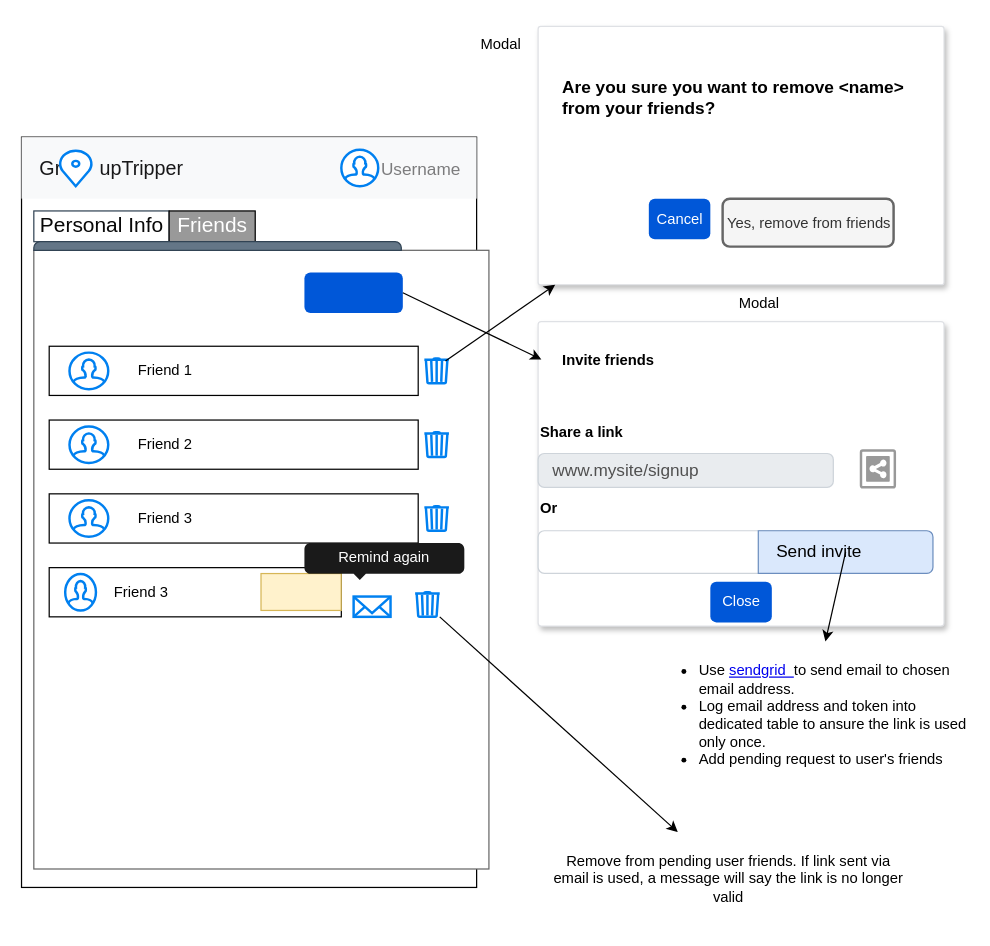
The diagram is 990 pixels wide and 946 high, and some of its shapes have lost their labels. The shapes that lost their labels are listed below. From the top down, each one's centre as x and y in pixels, then its label:
At (353,292): "Add friends".
At (734,551): "Enter email address".
At (300,591): "Pending".
